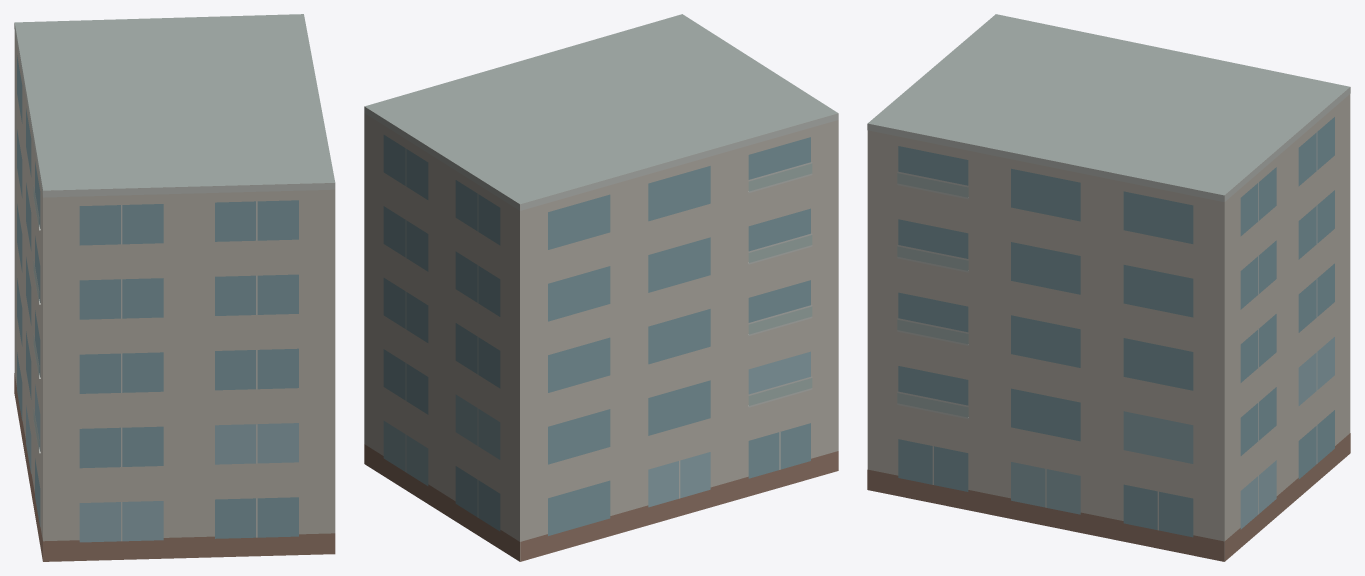
Rendered from survey-upis-32711793.glb.
3 renders of one model, left to right at view 1: azimuth 30°, elevation 25°; view 2: azimuth 150°, elevation 25°; view 3: azimuth 270°, elevation 25°, orthographic. The views are drawn at different scales.
Parts seen in each view (by area): view 1: survey-upis-32711793.tmp; view 2: survey-upis-32711793.tmp; view 3: survey-upis-32711793.tmp.
Part boxes in pixels (x1,y1,x2,y2): survey-upis-32711793.tmp: (14, 14, 335, 561); survey-upis-32711793.tmp: (364, 14, 838, 561); survey-upis-32711793.tmp: (867, 14, 1350, 561).
Size of the model in its own units: 14.02 by 13.2 by 15.78.
